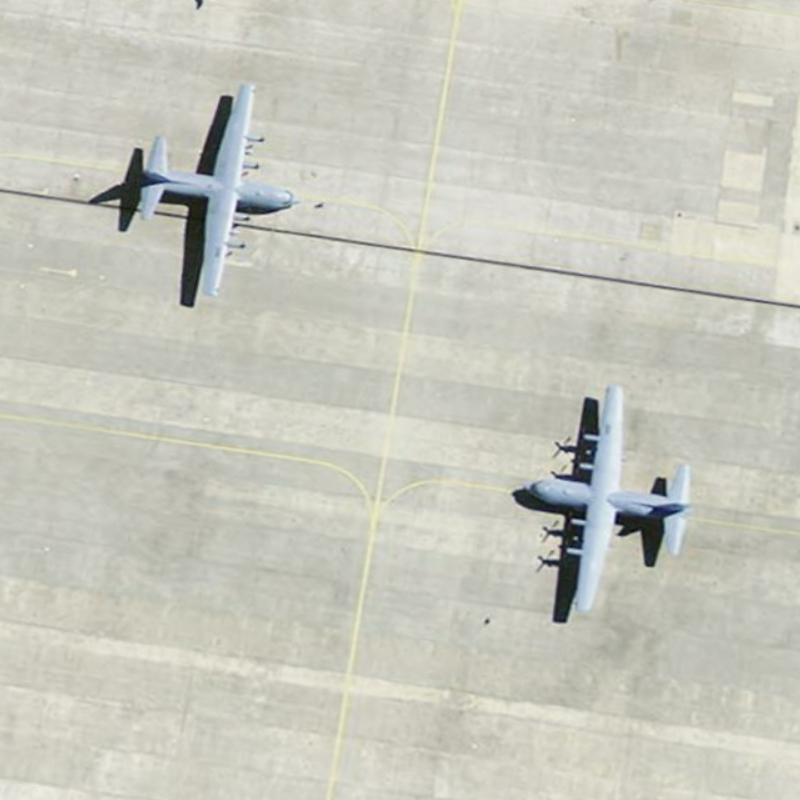A2: (123, 74, 303, 309), (520, 377, 691, 618)
